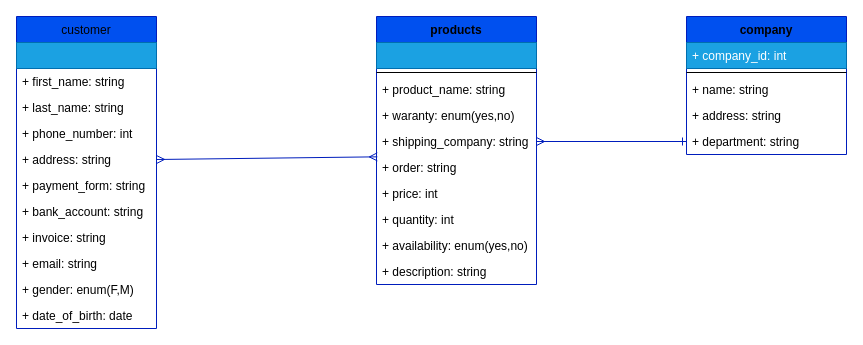
Some shapes in this 863 by 345 pixel diagram are drawn without their labels. Here are the shapes that lost their labels. From the top down, the centre of each, then its label:
point (86, 55): + customer_id: int
point (456, 55): + product_id: int
